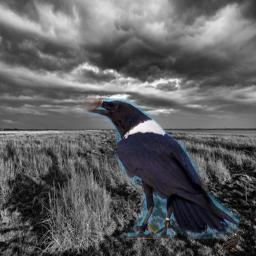Crow: (84, 98, 239, 239), (218, 230, 244, 252)
